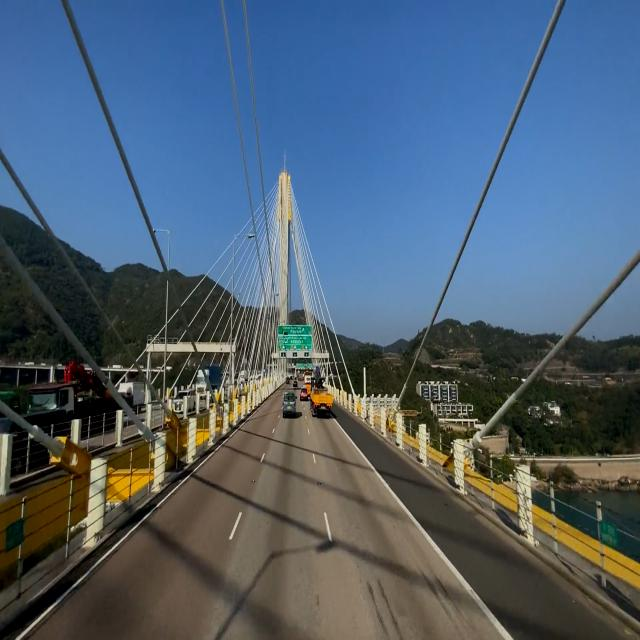Vehicle: (308, 365, 333, 420), (280, 392, 298, 419)
